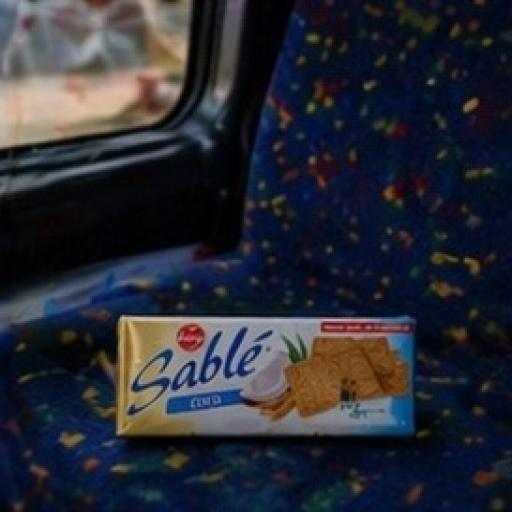sable: (70, 253, 479, 480)
